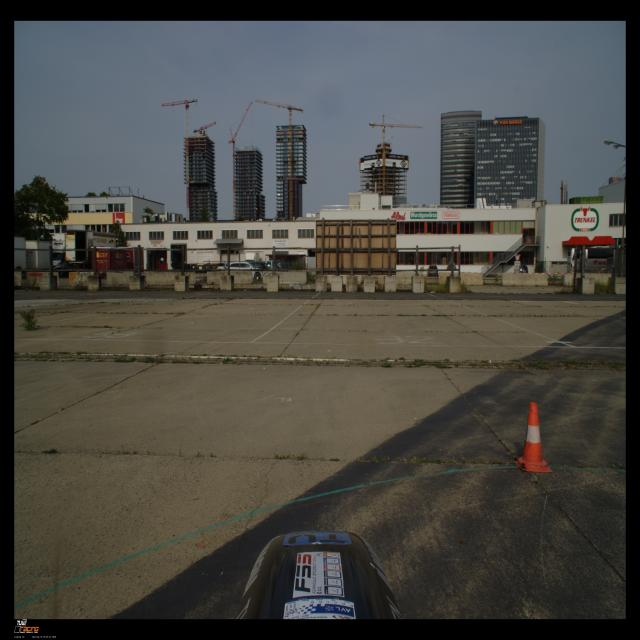orange_cone: (515, 402, 553, 473)
